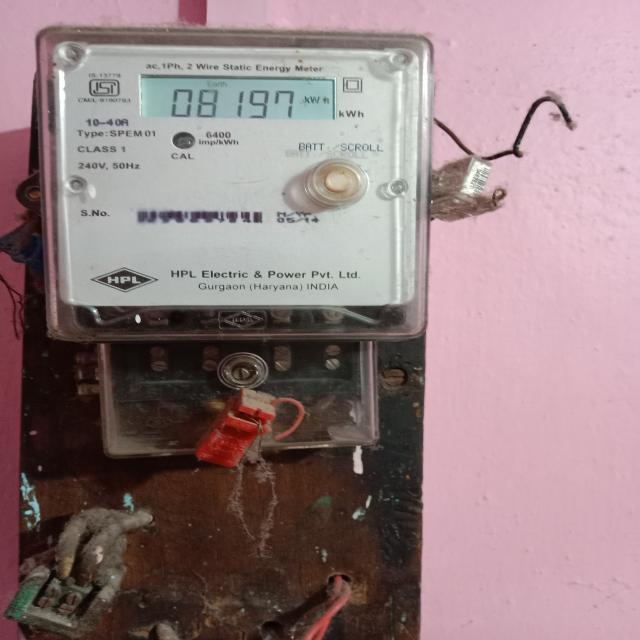display: (136, 72, 336, 124)
